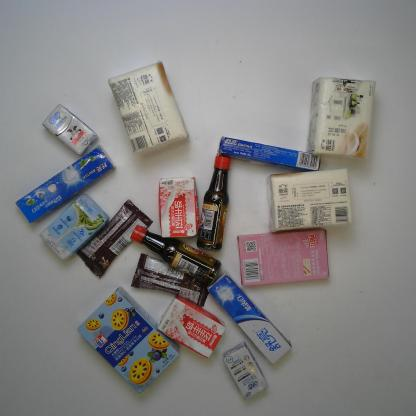Chocolate: (74, 200, 153, 277), (130, 255, 209, 303)
Dessert: (76, 287, 182, 391), (237, 225, 329, 290)
Milk: (38, 196, 106, 260), (156, 298, 226, 357), (39, 104, 99, 154), (157, 176, 199, 241), (222, 341, 268, 400)
Personal Hygiene: (14, 146, 115, 226), (208, 273, 291, 363), (216, 133, 323, 175)
Seasoner: (128, 223, 222, 282), (197, 153, 231, 251)
Tissue: (106, 60, 189, 159), (306, 76, 378, 160), (265, 168, 355, 232)
